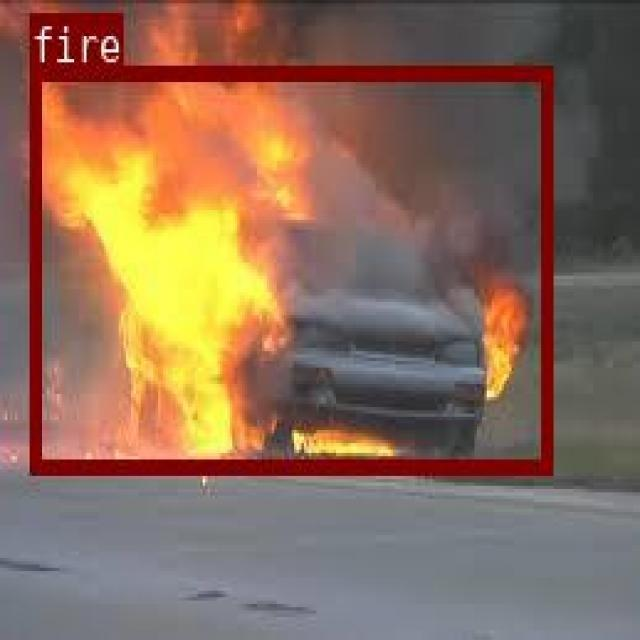fire: (28, 64, 550, 472)
